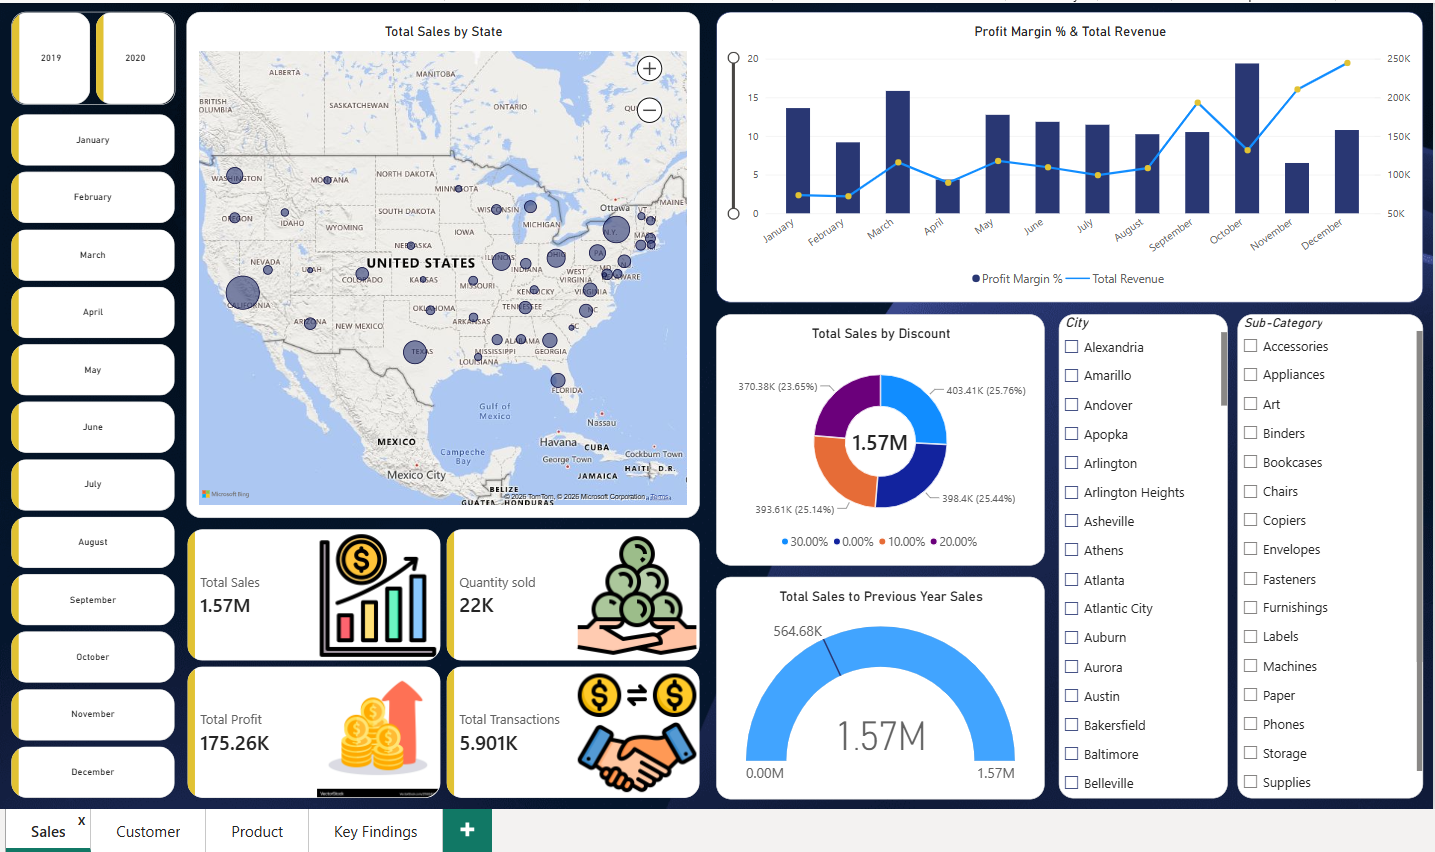

The dashboard page shown, as its layout file describes it:
{"tool":"powerbi","page":{"name":"Sales","canvas":[1920,1080],"ordinal":0},"visuals":[{"type":"cardVisual","fields":{"Data":["_Measures.Total Revenue","Sum(FACT_Orders.Quantity)","_Measures.Total Profit","CountNonNull(FACT_Orders.Payment Mode)"]},"box":[250.9,705.3,687.7,361.4],"z":1000},{"type":"map","title":"Total Sales by State","fields":{"Size":["Sum(FACT_Orders.Sales)"],"Category":["DIM_Customer.State"]},"box":[250,11.7,688.3,678.3],"z":2000},{"type":"advancedSlicerVisual","fields":{"Values":["dim_date.YEAR"]},"box":[15,11.7,220,125],"z":3000},{"type":"advancedSlicerVisual","fields":{"Values":["dim_date.Month"]},"box":[15.8,149.1,219.3,917.5],"z":4000},{"type":"lineStackedColumnComboChart","title":"Profit Margin % & Total Revenue ","fields":{"Category":["dim_date.Month"],"Y2":["_Measures.Total Revenue"],"Y":["_Measures.Profit Margin %"]},"box":[959.6,12.3,947.4,389.5],"z":5001},{"type":"donutChart","title":"Total Sales by Discount","fields":{"Y":["Sum(FACT_Orders.Sales)"],"Category":["FACT_Orders.Discount"]},"box":[959.6,417.5,440.4,336.8],"z":5002},{"type":"gauge","title":"Total Sales to Previous Year Sales","fields":{"Y":["Sum(FACT_Orders.Sales)"],"TargetValue":["_Measures.Sales Previous Year"],"MaxValue":["Sum(FACT_Orders.Sales)"]},"box":[959.6,768.4,440.4,298.2],"z":5003},{"type":"slicer","fields":{"Values":["DIM_Customer.City"]},"box":[1419.3,417.5,226.3,649.1],"z":5004},{"type":"slicer","fields":{"Values":["DIM_Product.Sub-Category"]},"box":[1657.9,417.5,249.1,649.1],"z":5005}]}

Visuals, with their boxes in screenshot pixels (x1, y1, x2, y2):
cardVisual - _Measures.Total Revenue x Sum(FACT_Orders.Quantity): bbox(192, 520, 699, 786)
"Total Sales by State" map: bbox(192, 9, 699, 509)
advancedSlicerVisual - dim_date.YEAR: bbox(19, 9, 181, 101)
advancedSlicerVisual - dim_date.Month: bbox(19, 110, 181, 786)
"Profit Margin % & Total Revenue " lineStackedColumnComboChart: bbox(715, 9, 1413, 296)
"Total Sales by Discount" donutChart: bbox(715, 308, 1039, 556)
"Total Sales to Previous Year Sales" gauge: bbox(715, 566, 1039, 786)
slicer - DIM_Customer.City: bbox(1054, 308, 1220, 786)
slicer - DIM_Product.Sub-Category: bbox(1229, 308, 1413, 786)
